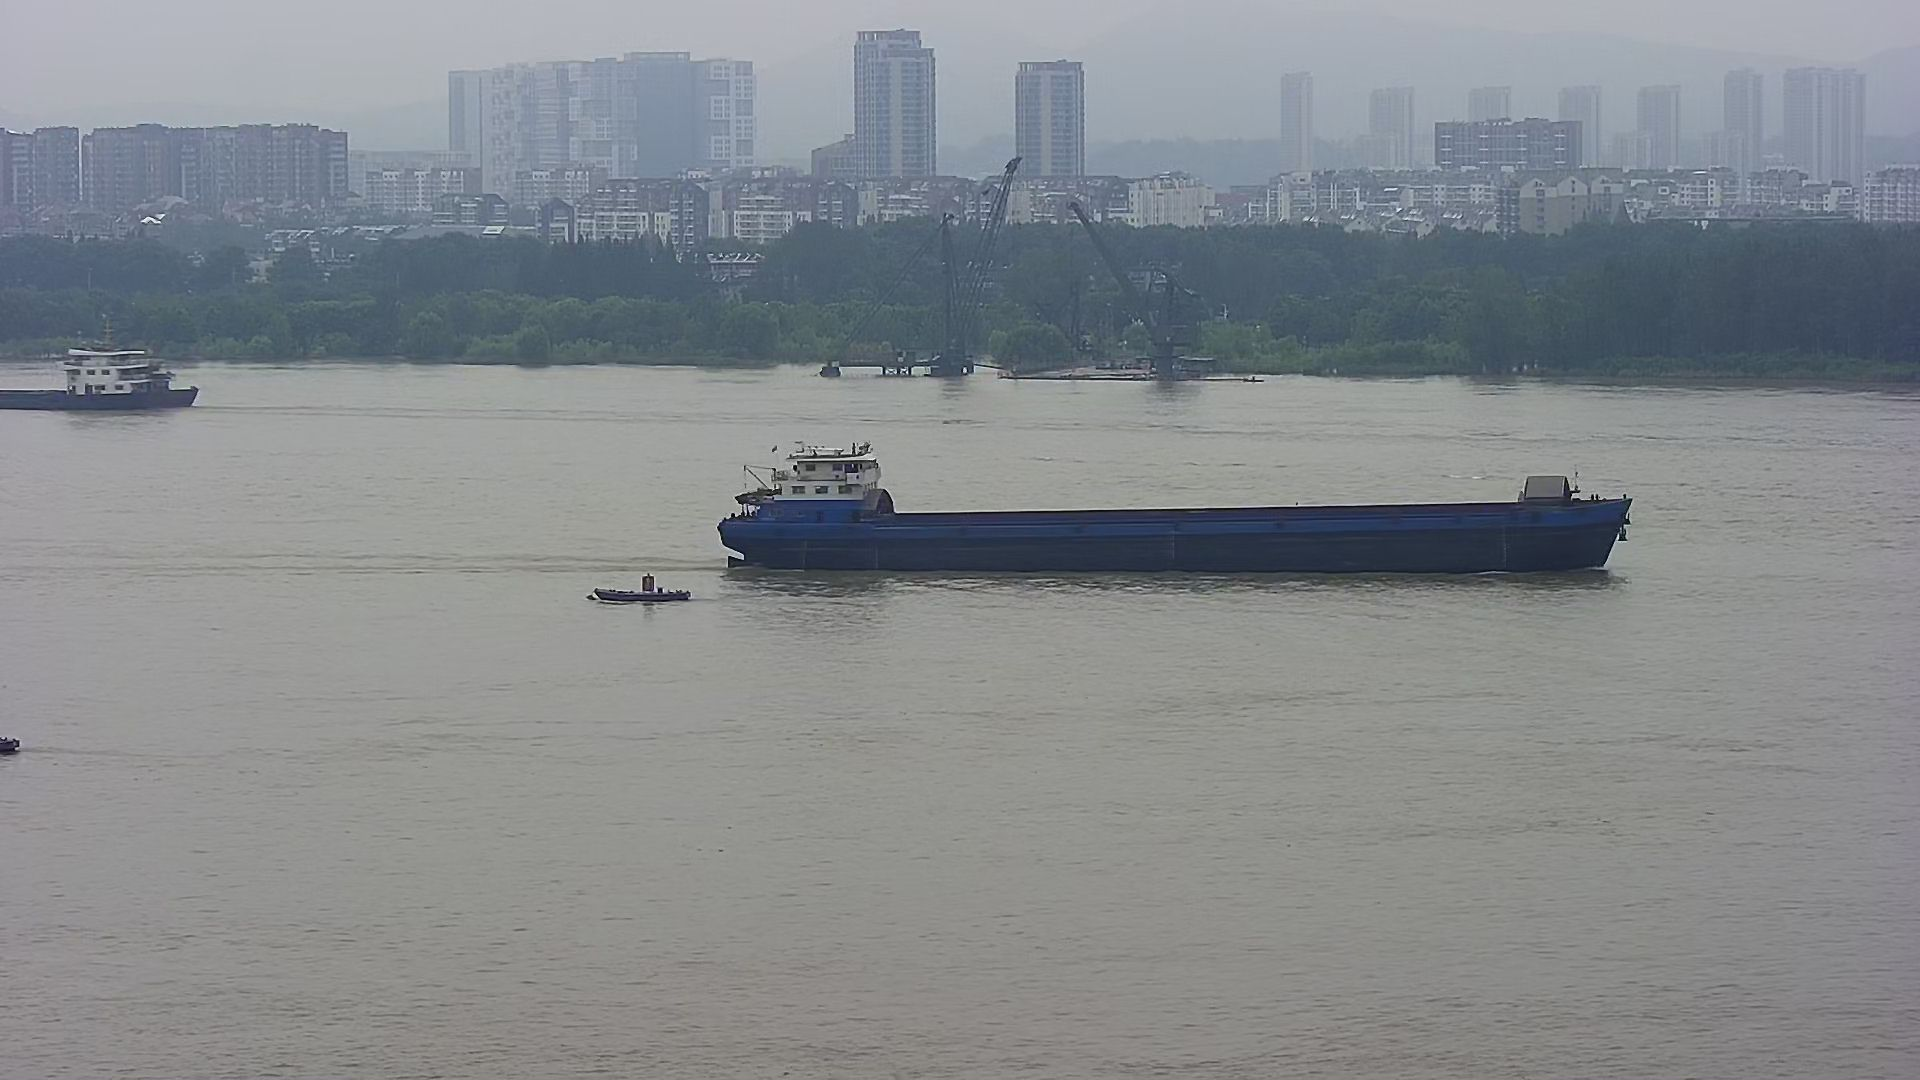boat: (592, 572, 699, 611), (1, 732, 21, 760)
harbor: (818, 347, 1263, 386)
ship: (719, 436, 1633, 587), (1, 319, 200, 419)
